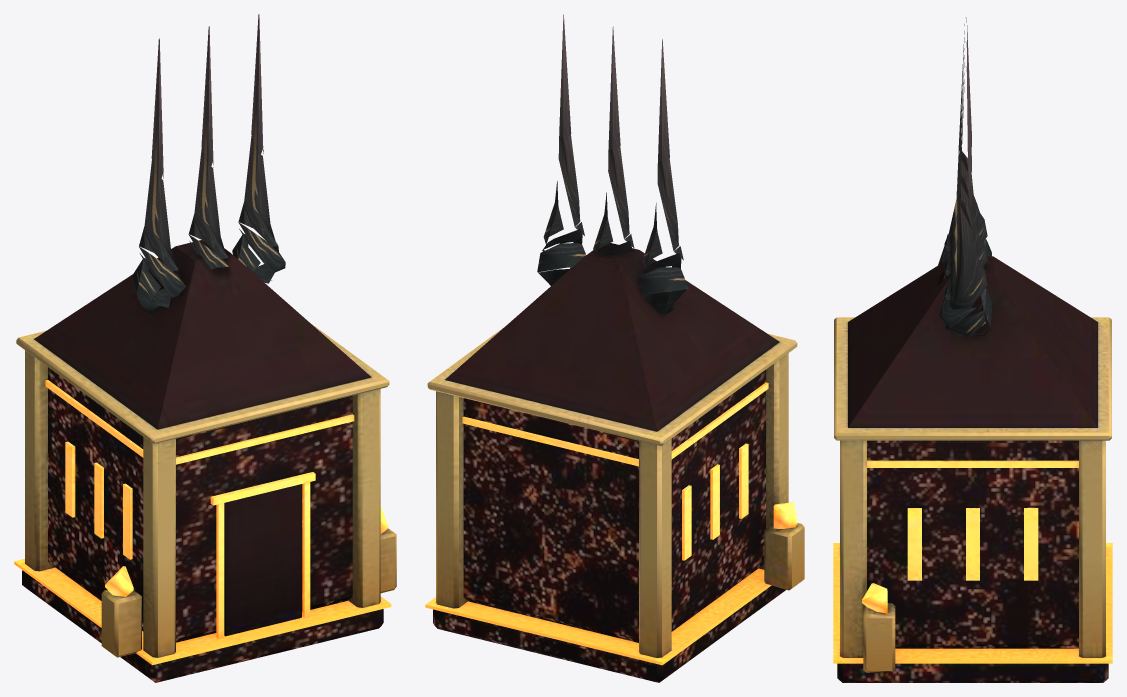
File: bld3_fire.glb
The picture shows the model from 3 angles, left to right: view 1: azimuth 30°, elevation 25°; view 2: azimuth 150°, elevation 25°; view 3: azimuth 270°, elevation 25°; orthographic projection.
Visible parts, largest first — view 1: bld3_fire; view 2: bld3_fire; view 3: bld3_fire.
Boxes of the visible parts, x1=… form: bld3_fire: x1=14, y1=14, x2=396, y2=682; bld3_fire: x1=425, y1=14, x2=804, y2=682; bld3_fire: x1=833, y1=17, x2=1112, y2=682.
Bounding box in the file's own units: 5.12 × 10.09 × 4.32.
2 materials, 2 textured.
